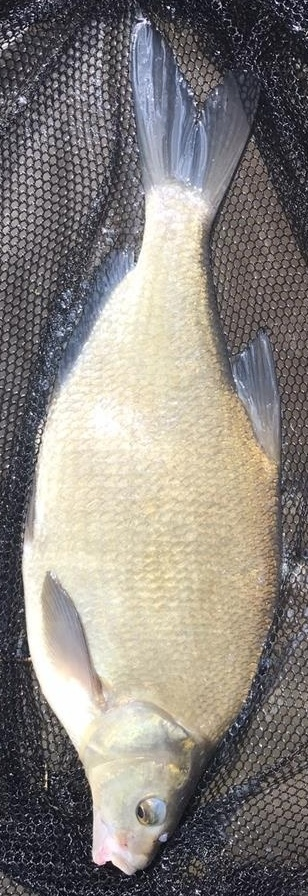Abramis brama: (20, 20, 288, 876)
